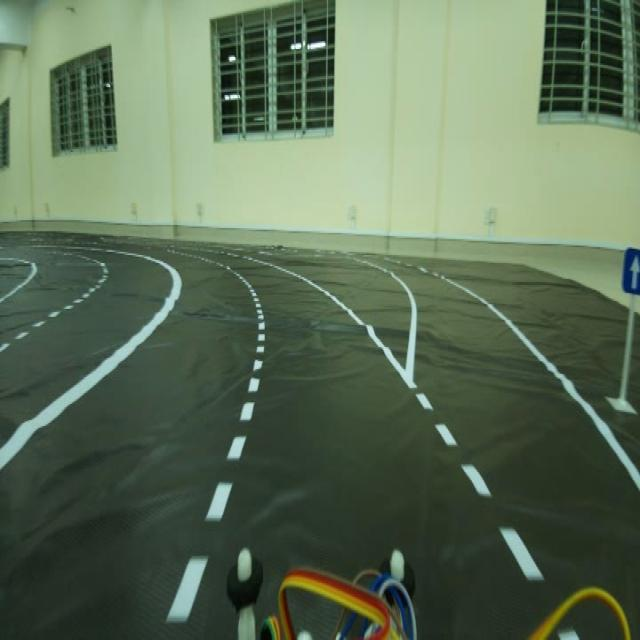onewayroad: (618, 239, 640, 296)
